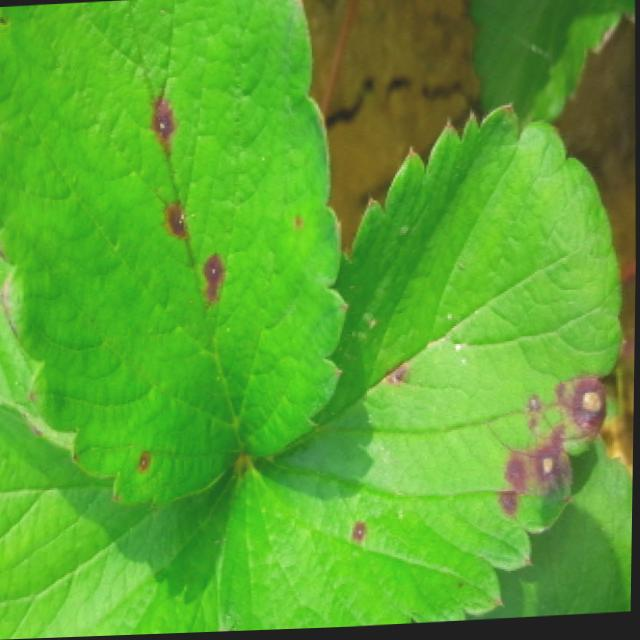Leaf Spot: (217, 104, 629, 633), (0, 0, 353, 508), (0, 392, 239, 640)
